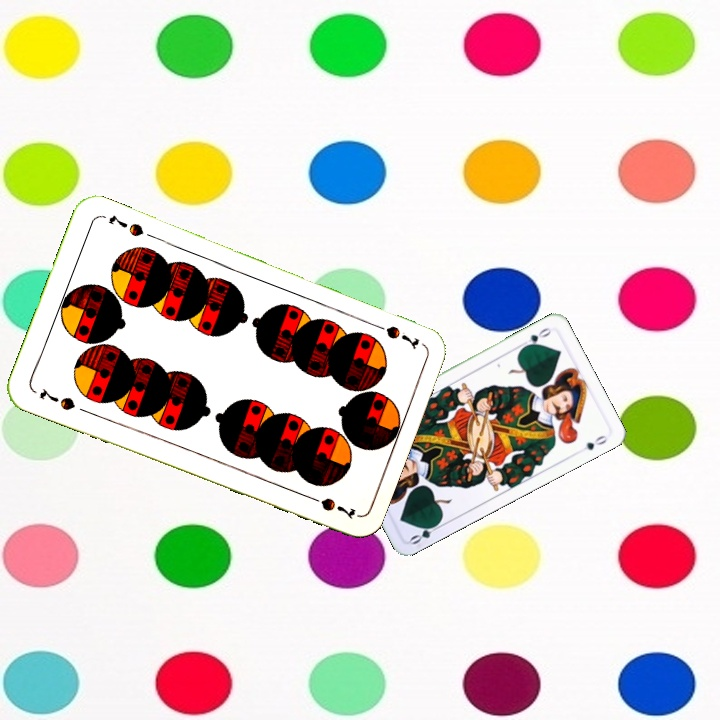GO: (406, 518, 445, 547), (516, 323, 553, 351)
S7: (367, 318, 422, 352), (35, 384, 78, 413)
